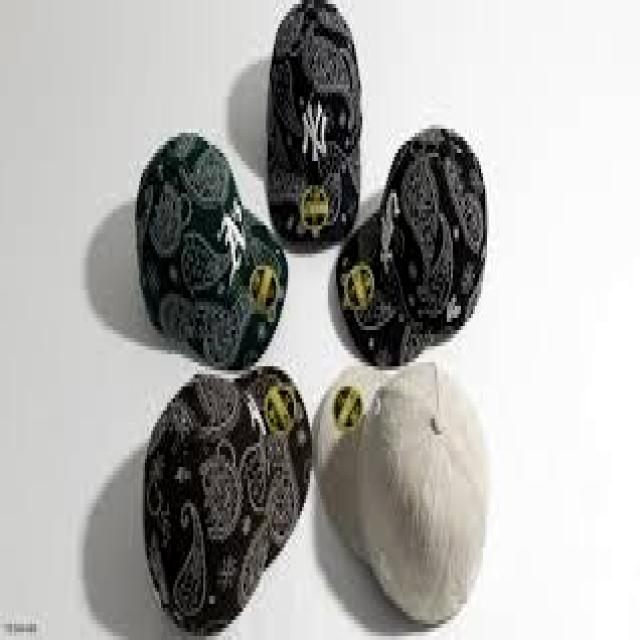hat: (316, 362, 490, 626), (143, 374, 313, 636), (135, 133, 287, 370), (337, 129, 487, 366), (268, 0, 362, 245)
